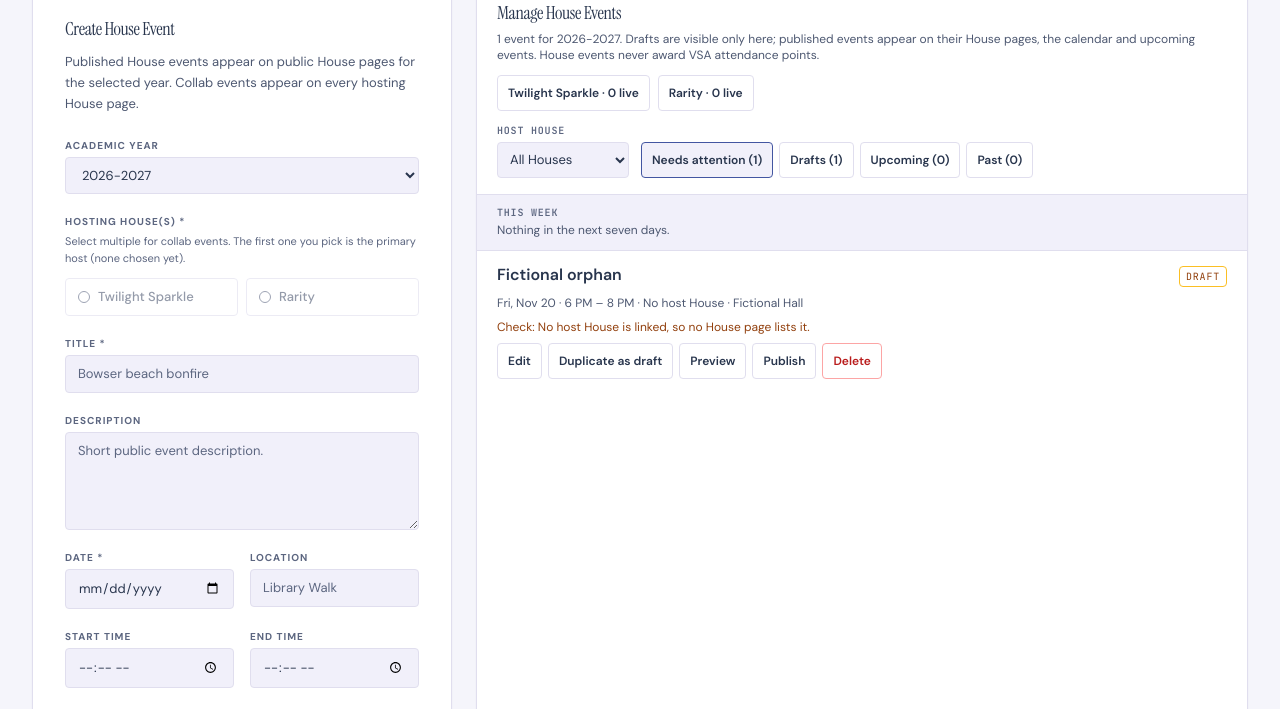
Test case: refuses to publish an event with no host House
The width and height of the screenshot is (1280, 709).
(page scrolled)
Click the button with aria-label "Publish Fictional orphan".
click(784, 361)  # box left=752, top=343, right=816, bottom=379
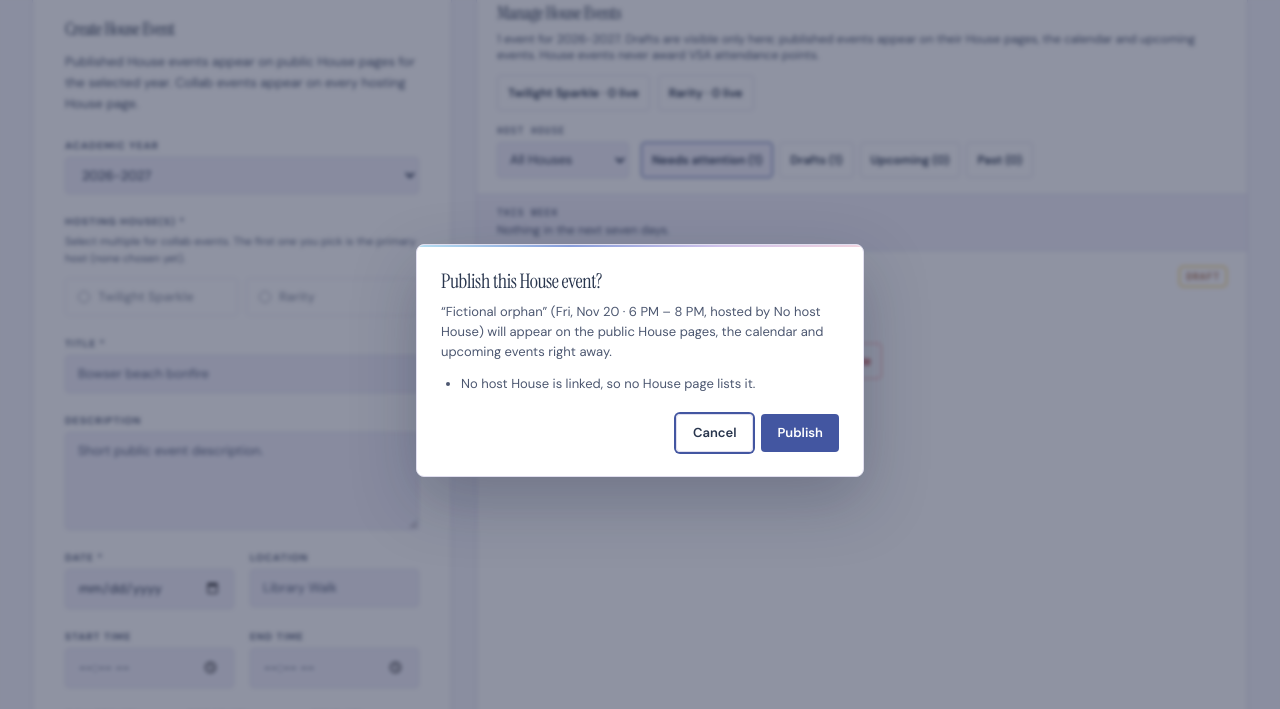
Click the button "Publish".
click(800, 432)  # box left=762, top=414, right=839, bottom=452
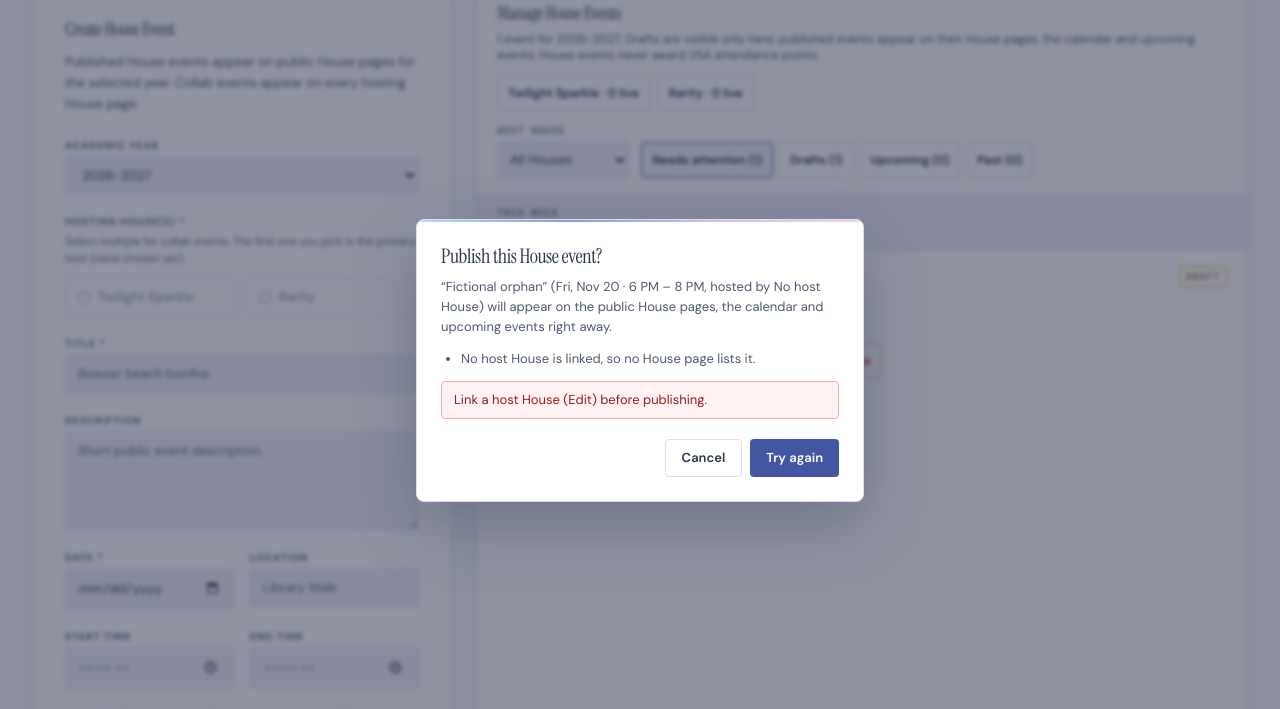
expect the text "Link a host House (Edit) before publishing." is shown: met, box left=441, top=380, right=839, bottom=418
